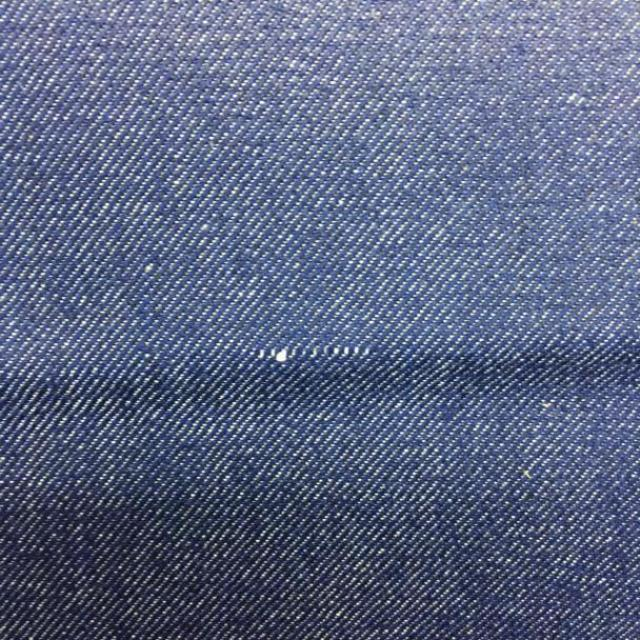Knot: (254, 345, 374, 364)
